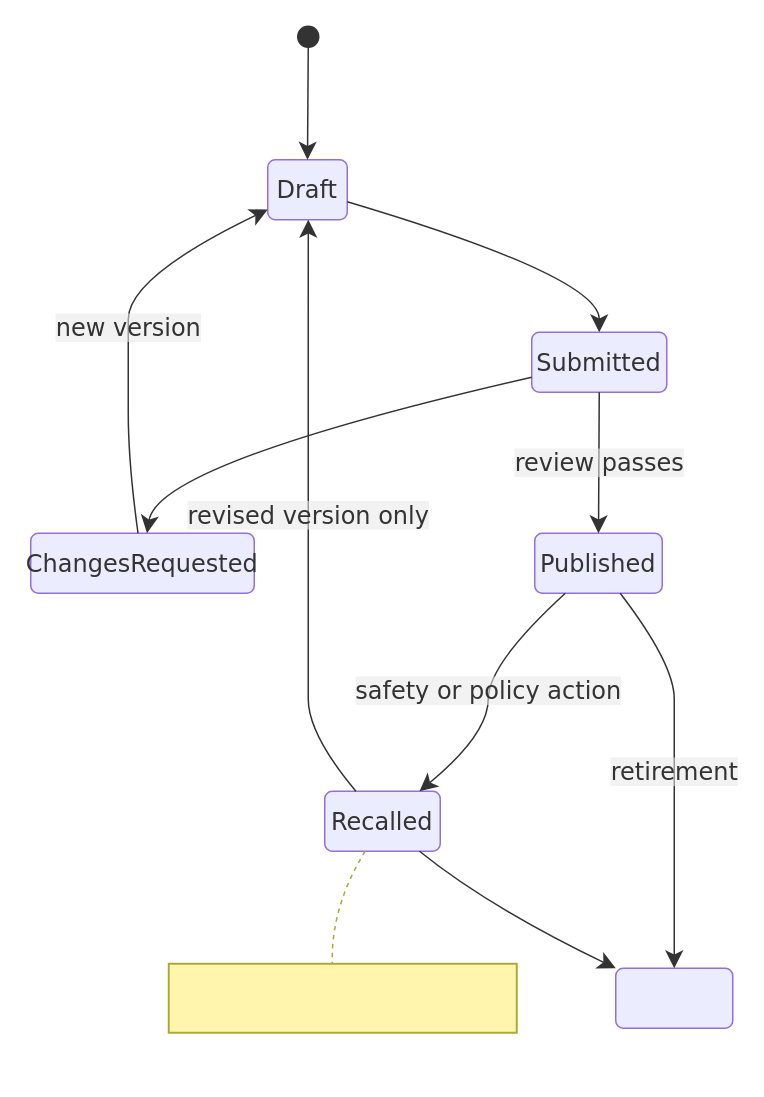
The diagram is 764 pixels wide and 1097 high, and some of its shapes have lost their labels. Each missing label, with the centre of its shape:
Archived: pixel 673 997
Recall denies new use immediately.: pixel 342 997
